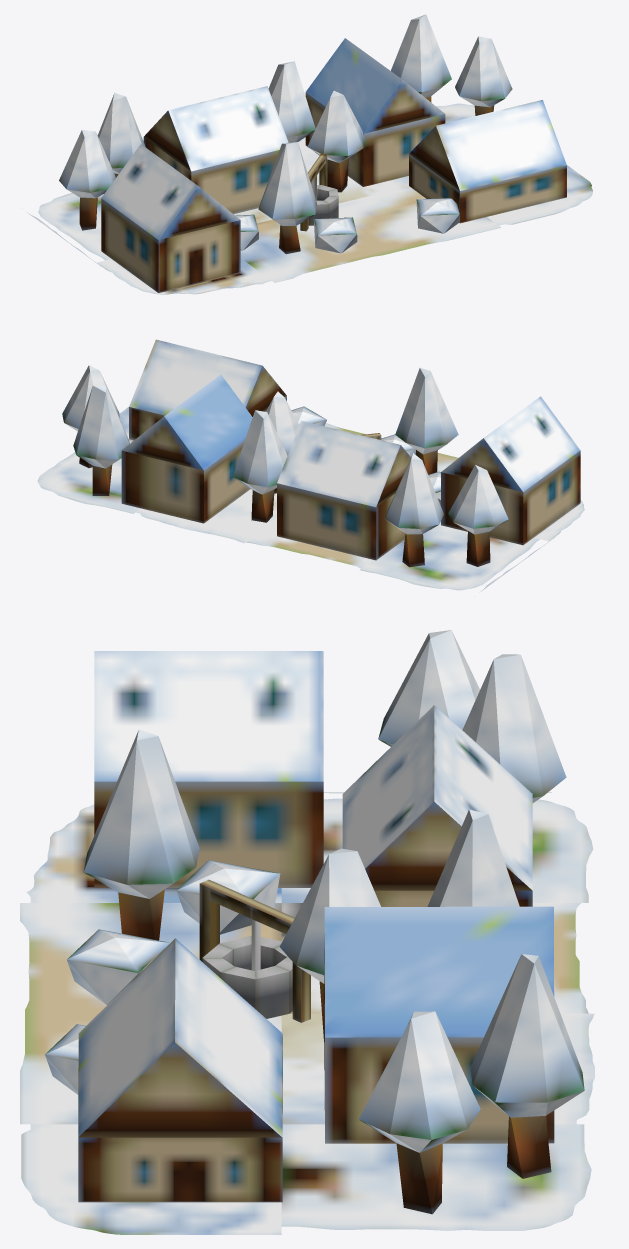
Rendered from Poly_World_Map_Town_House_06_Snow.obj.
3 renders of one model, top to bottom at view 1: azimuth 30°, elevation 25°; view 2: azimuth 150°, elevation 25°; view 3: azimuth 270°, elevation 25°, orthographic. The views are drawn at different scales.
Visible parts, largest first — view 1: Cube.001_Cube.001_Cube.001_Cube.002, Plane_Plane.001, Cube.002_Cube.003_Cube.002_Cube.004, Cube_Cube.002_Cube_Cube.001, Cube.002_Cube.001_Cube.002_Cube.006, Cube.002_Cube.002_Cube.002_Cube.005, Cube.003_Cube.004_Cube.003_Cube.001, Cube.004_Cube.005_Cube.004_Cube.001; view 2: Cube.001_Cube.001_Cube.001_Cube.002, Cube.002_Cube.001_Cube.002_Cube.006, Plane_Plane.001, Cube.002_Cube.002_Cube.002_Cube.005, Cube.002_Cube.003_Cube.002_Cube.004, Cube_Cube.002_Cube_Cube.001; view 3: Cube.001_Cube.001_Cube.001_Cube.002, Plane_Plane.001, Cube_Cube.002_Cube_Cube.001, Cube.002_Cube.003_Cube.002_Cube.004, Cube.002_Cube.002_Cube.002_Cube.005, Cube.002_Cube.001_Cube.002_Cube.006, Cube.003_Cube.004_Cube.003_Cube.001, Cube.004_Cube.005_Cube.004_Cube.001.
Part boxes in pixels (bbox=[...]): Cube.001_Cube.001_Cube.001_Cube.002: bbox=[59, 14, 512, 254]; Plane_Plane.001: bbox=[27, 103, 592, 294]; Cube.002_Cube.003_Cube.002_Cube.004: bbox=[101, 144, 240, 292]; Cube_Cube.002_Cube_Cube.001: bbox=[409, 100, 566, 223]; Cube.002_Cube.001_Cube.002_Cube.006: bbox=[143, 86, 288, 214]; Cube.002_Cube.002_Cube.002_Cube.005: bbox=[305, 38, 445, 186]; Cube.003_Cube.004_Cube.003_Cube.001: bbox=[308, 185, 338, 225]; Cube.004_Cube.005_Cube.004_Cube.001: bbox=[300, 153, 327, 231]; Cube.001_Cube.001_Cube.001_Cube.002: bbox=[62, 365, 508, 567]; Cube.002_Cube.001_Cube.002_Cube.006: bbox=[277, 420, 410, 560]; Plane_Plane.001: bbox=[37, 407, 584, 591]; Cube.002_Cube.002_Cube.002_Cube.005: bbox=[121, 374, 252, 523]; Cube.002_Cube.003_Cube.002_Cube.004: bbox=[441, 396, 580, 545]; Cube_Cube.002_Cube_Cube.001: bbox=[129, 339, 286, 440]; Cube.001_Cube.001_Cube.001_Cube.002: bbox=[45, 630, 584, 1214]; Plane_Plane.001: bbox=[20, 792, 594, 1234]; Cube_Cube.002_Cube_Cube.001: bbox=[78, 938, 282, 1202]; Cube.002_Cube.003_Cube.002_Cube.004: bbox=[94, 651, 323, 887]; Cube.002_Cube.002_Cube.002_Cube.005: bbox=[324, 906, 554, 1143]; Cube.002_Cube.001_Cube.002_Cube.006: bbox=[342, 705, 532, 906]; Cube.003_Cube.004_Cube.003_Cube.001: bbox=[202, 936, 292, 1018]; Cube.004_Cube.005_Cube.004_Cube.001: bbox=[199, 879, 310, 1022].
Size of the model in its own units: 1.6 by 0.363 by 0.9.
Materials: 1 (1 with a texture image).
